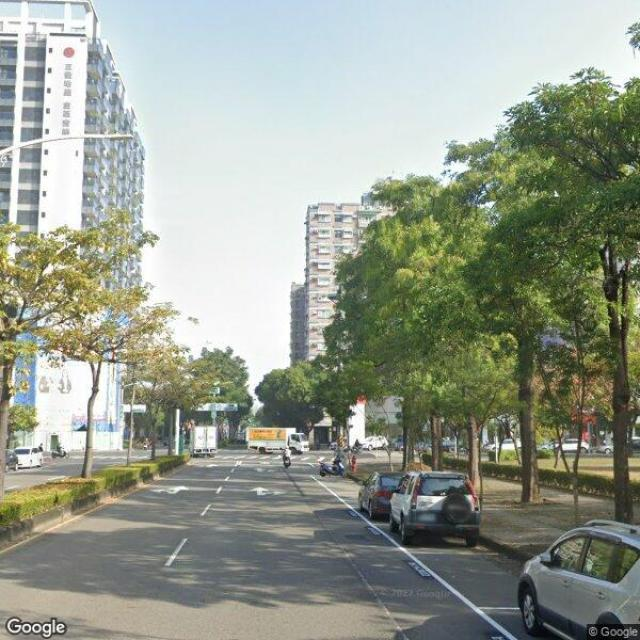Legalparking: (517, 520, 639, 639), (358, 472, 478, 546)
illegalparking: (247, 428, 308, 452)
